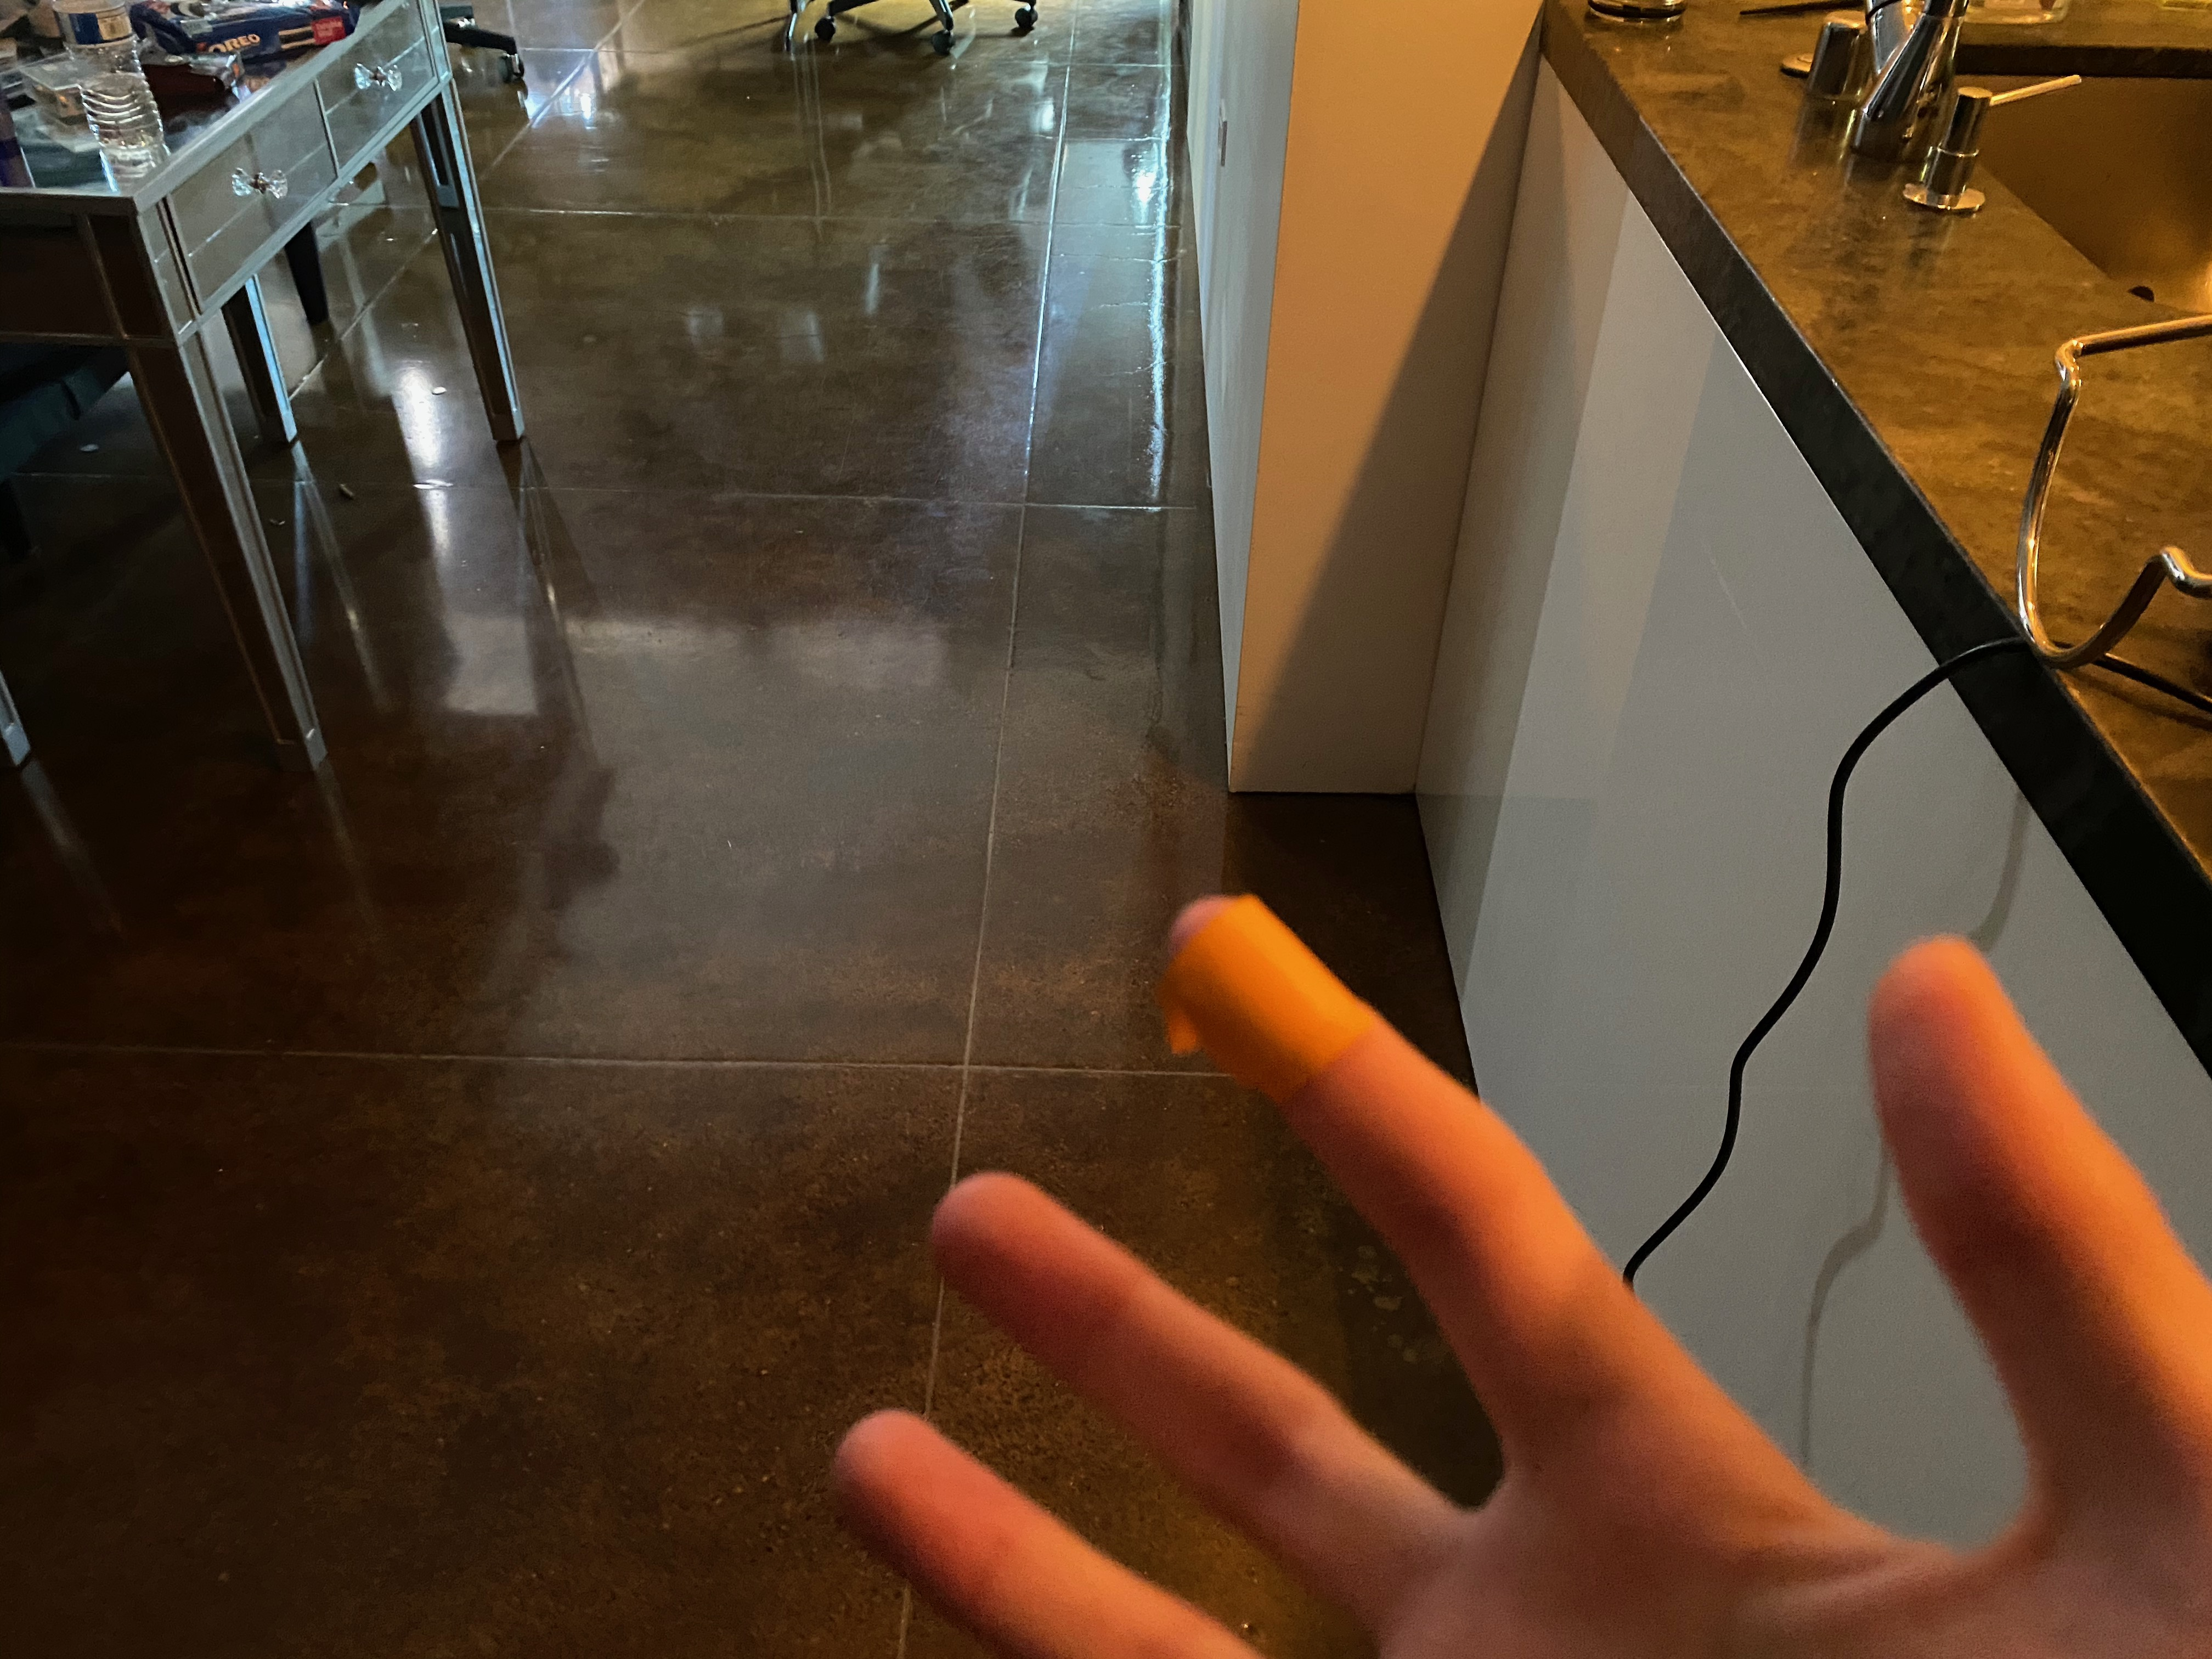fingertip: (1108, 887, 1378, 1131)
